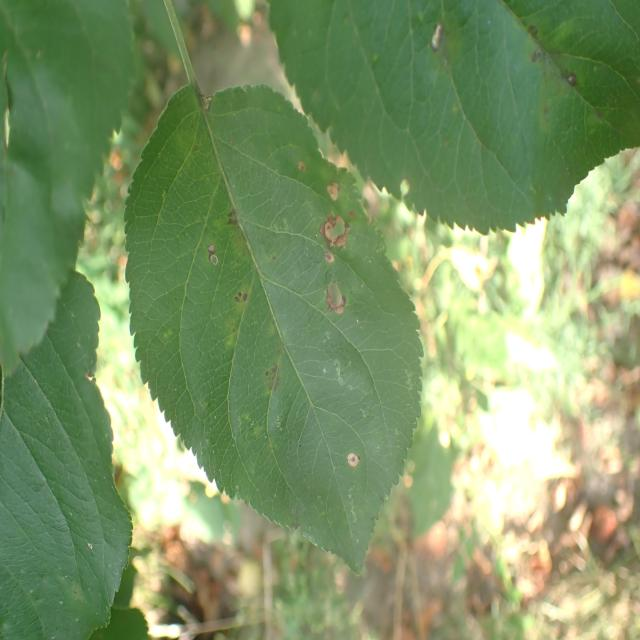frog-eye-leaf-spot: (122, 80, 424, 577), (269, 0, 640, 238)
